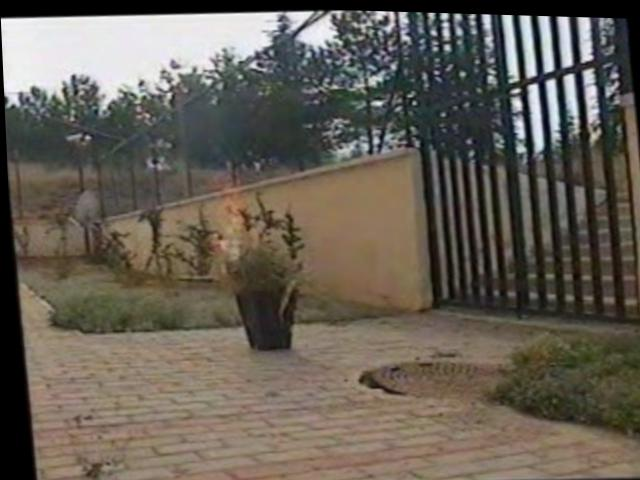fire: (175, 158, 293, 288)
